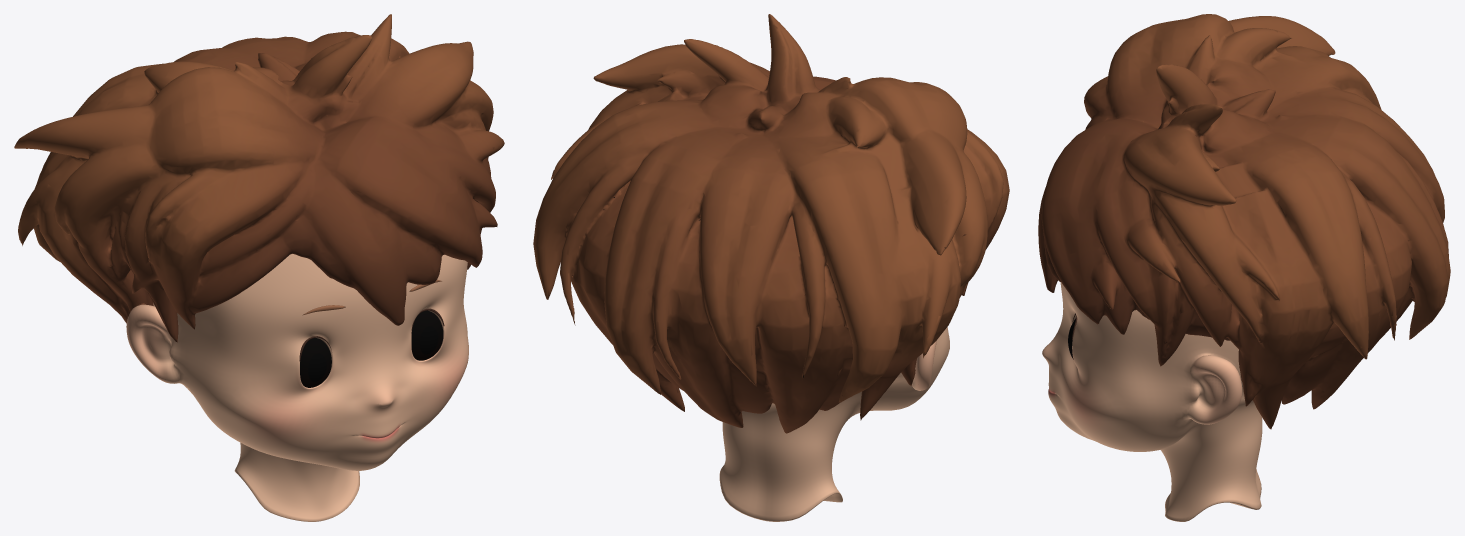
Rendered from head_candidate_v007.glb.
The picture shows the model from 3 angles, left to right: view 1: azimuth 30°, elevation 25°; view 2: azimuth 150°, elevation 25°; view 3: azimuth 270°, elevation 25°; orthographic projection. The views are drawn at different scales.
Parts seen in each view (by area): view 1: SCULPT_HAIR, SCULPT_HEAD, SCULPT_EYE_L, SCULPT_EYE_R; view 2: SCULPT_HAIR, SCULPT_HEAD; view 3: SCULPT_HAIR, SCULPT_HEAD.
Part boxes in pixels (left/top/right/bottom): SCULPT_HAIR: left=14, top=14, right=504, bottom=342; SCULPT_HEAD: left=126, top=254, right=468, bottom=521; SCULPT_EYE_L: left=411, top=310, right=443, bottom=360; SCULPT_EYE_R: left=300, top=338, right=331, bottom=387; SCULPT_HAIR: left=533, top=14, right=1009, bottom=433; SCULPT_HEAD: left=719, top=327, right=949, bottom=521; SCULPT_HAIR: left=1038, top=14, right=1450, bottom=429; SCULPT_HEAD: left=1042, top=282, right=1262, bottom=521.
Size of the model in its own units: 0.4761 by 0.5076 by 0.4073.
Materials: 5 (3 with a texture image).
